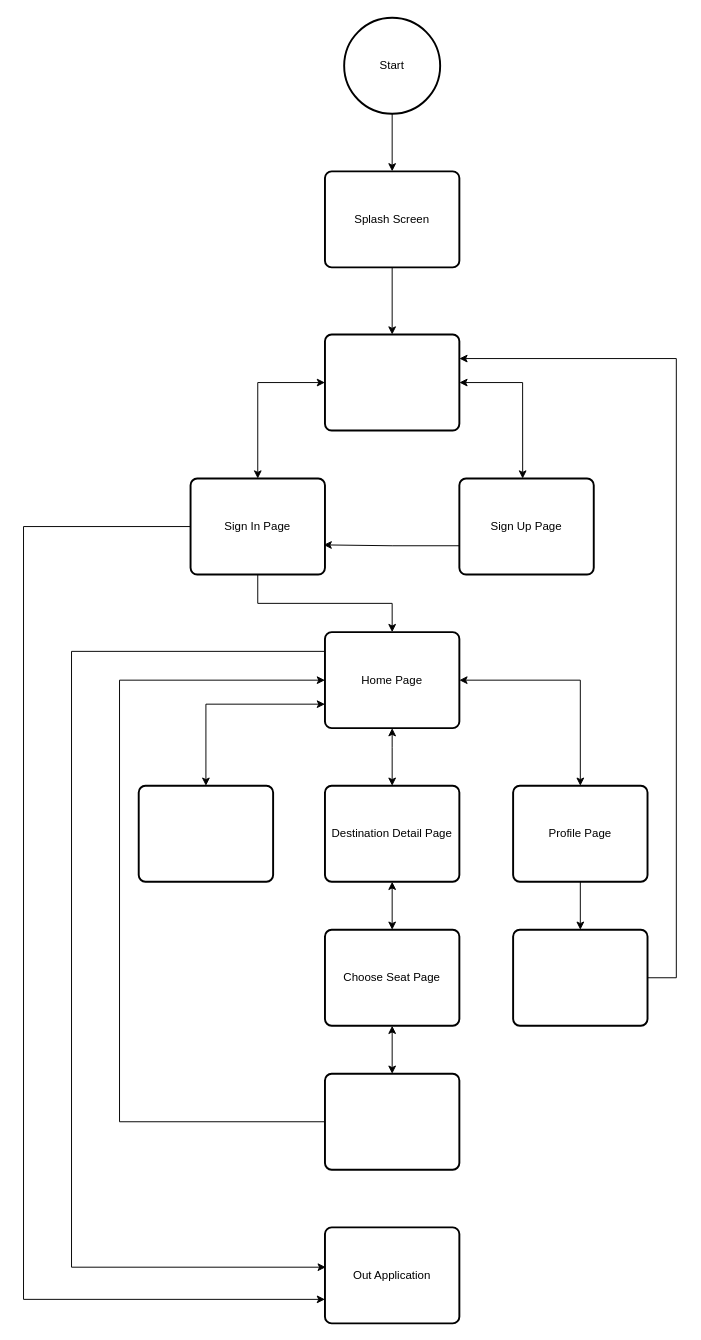
Some shapes in this 701 by 1340 pixel diagram are drawn without their labels. The box of each missing label's shape, as (x1, y1, x2, y2) in pixels:
Get Started Page: (324, 333, 460, 431)
Sign Out Page: (512, 928, 648, 1026)
Success Page: (324, 1072, 460, 1170)
Wallet Page: (137, 784, 274, 882)
